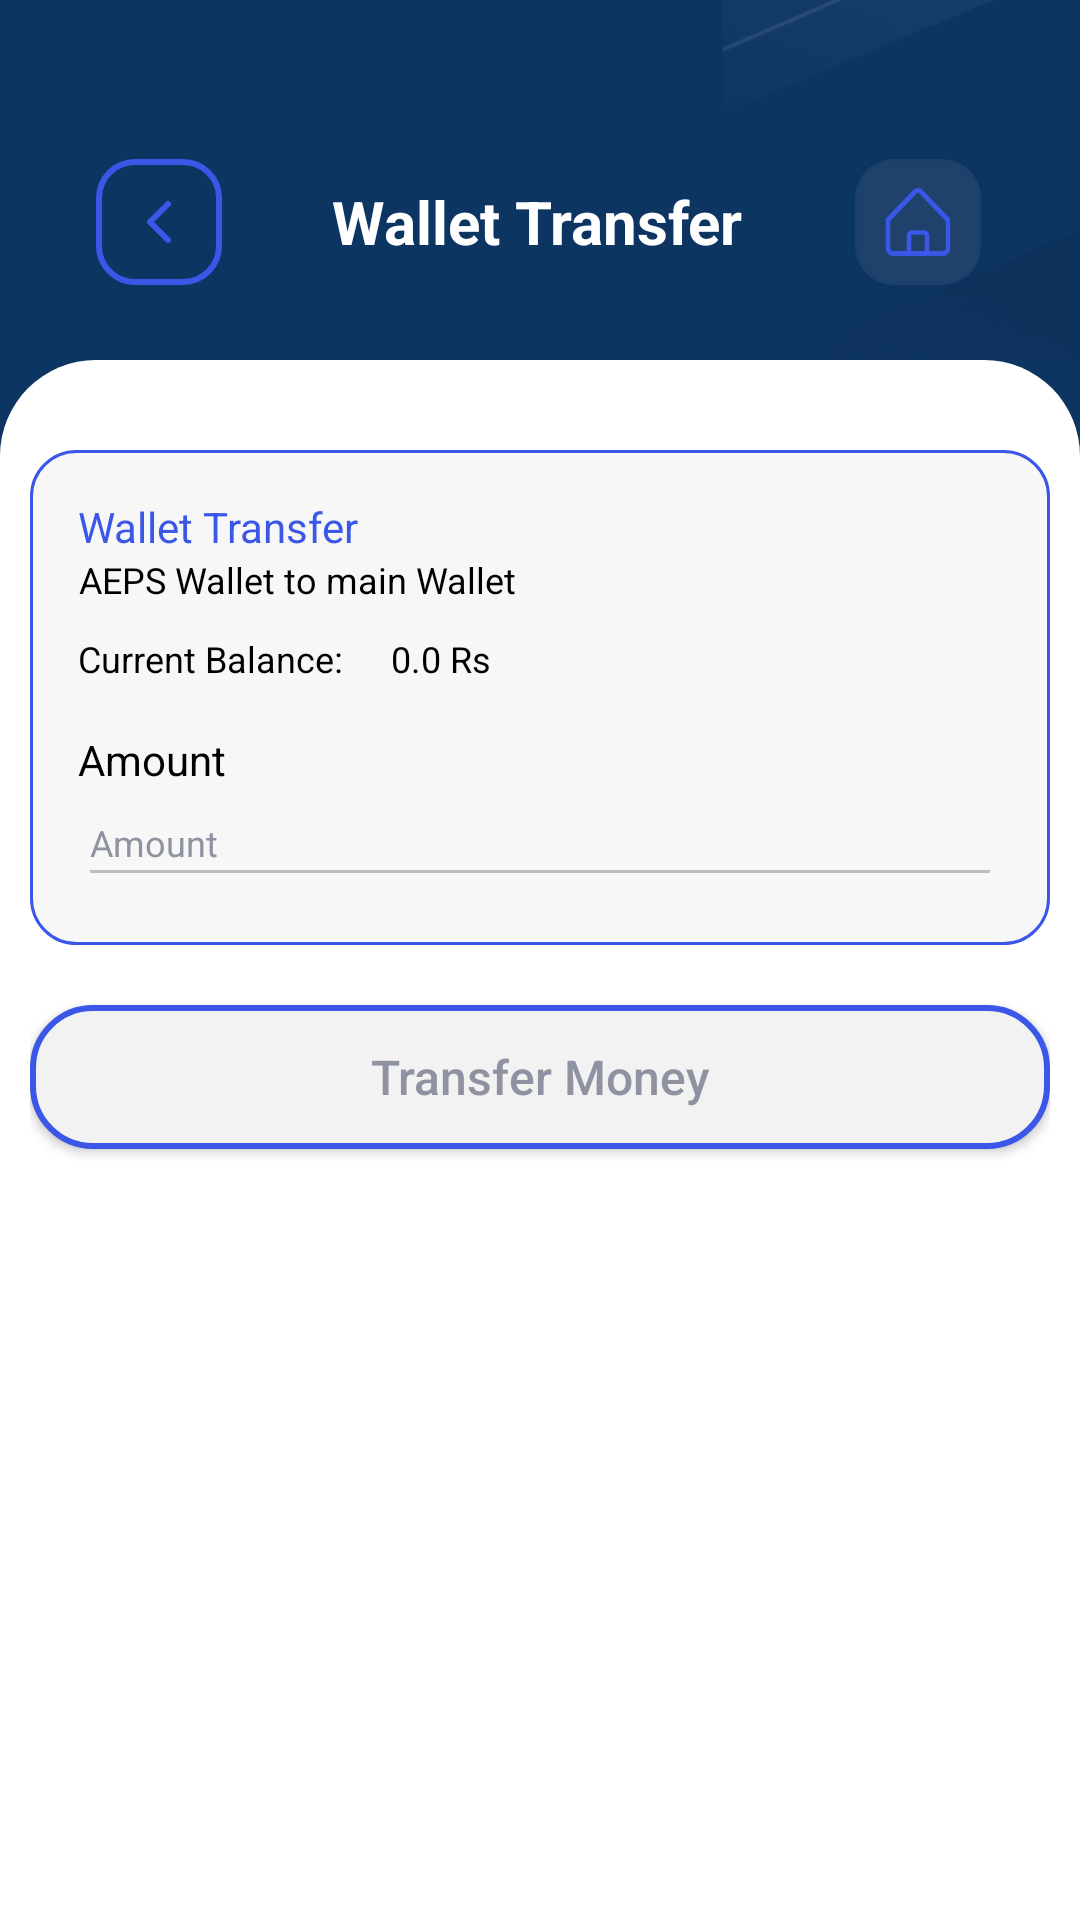

Where to tap for icons on this 1080w x 1920h app screen, as (x=x, y=y):
back: (x=159, y=222)
home: (x=918, y=222)
